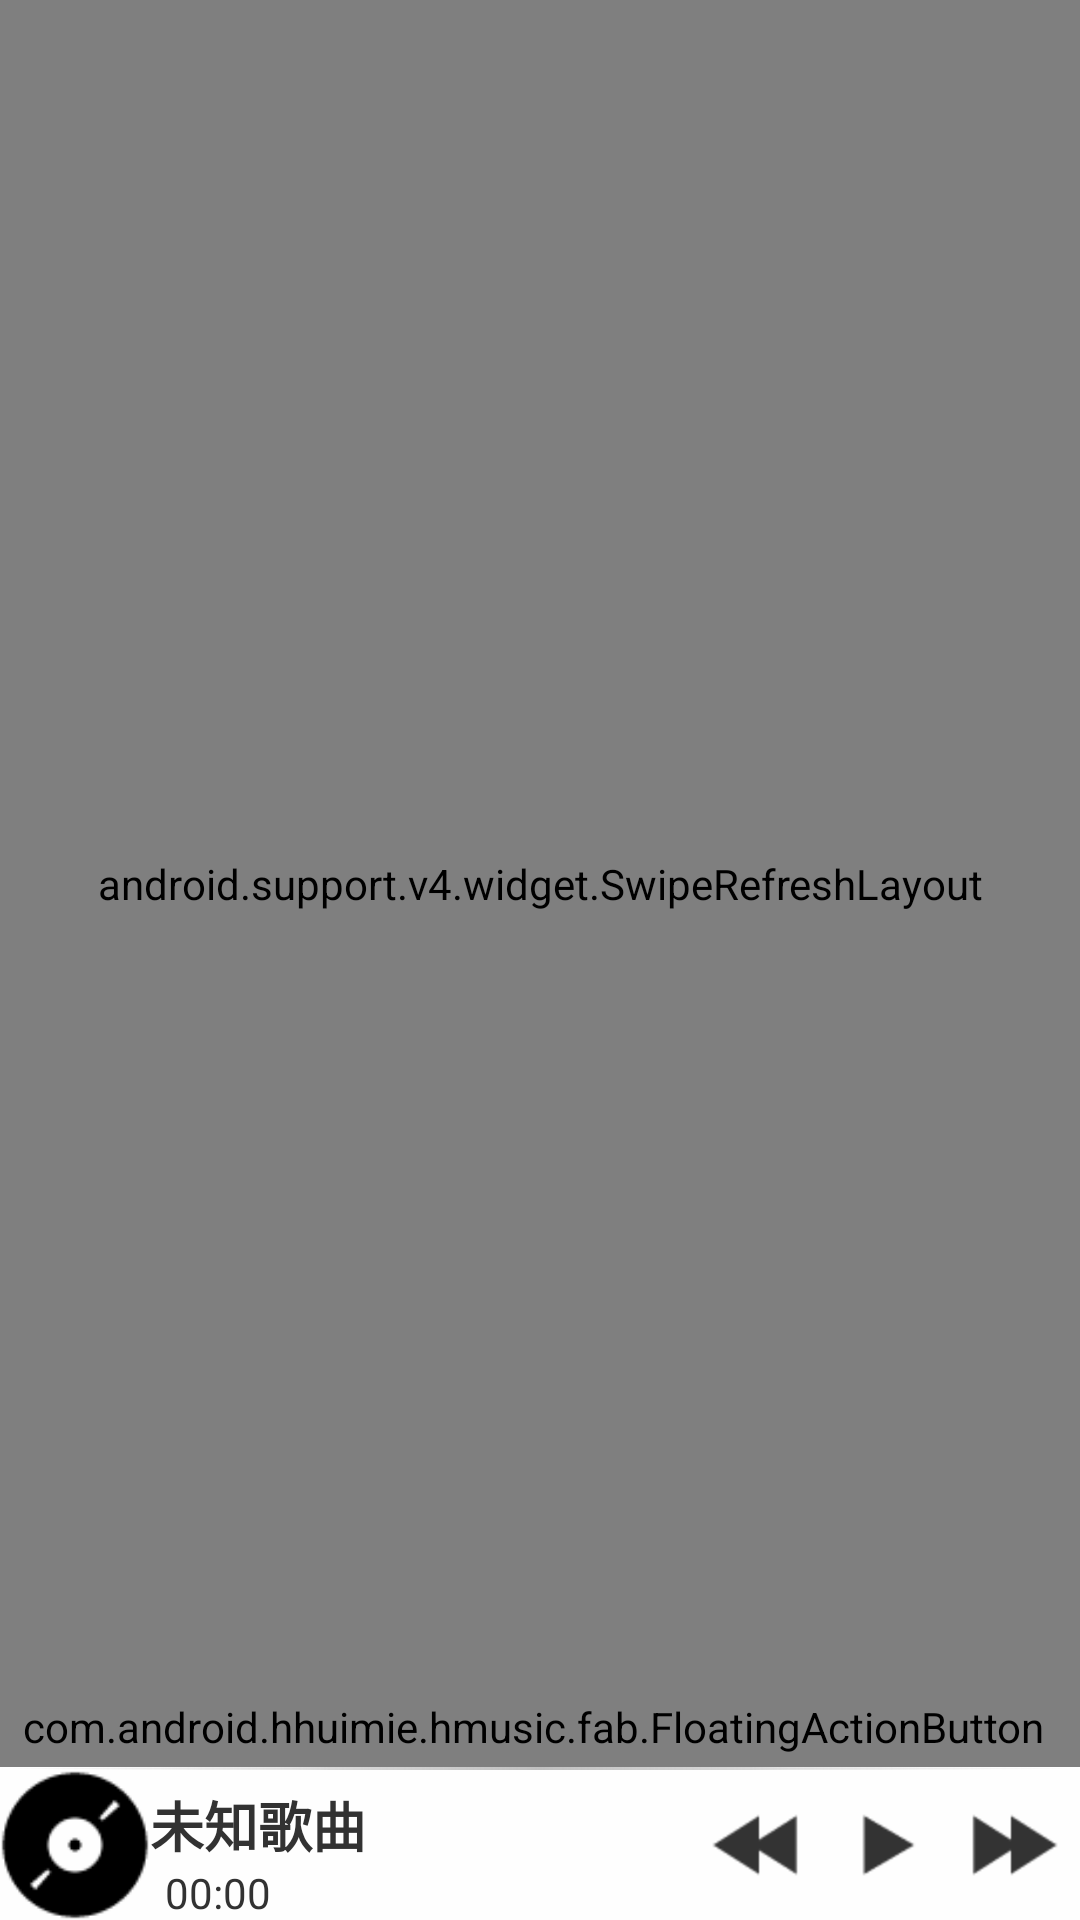

Point at icon controls on the screen. Image size 1080 × 1920, points as (x,y).
next music: (1014,1845)
previous music: (755,1845)
